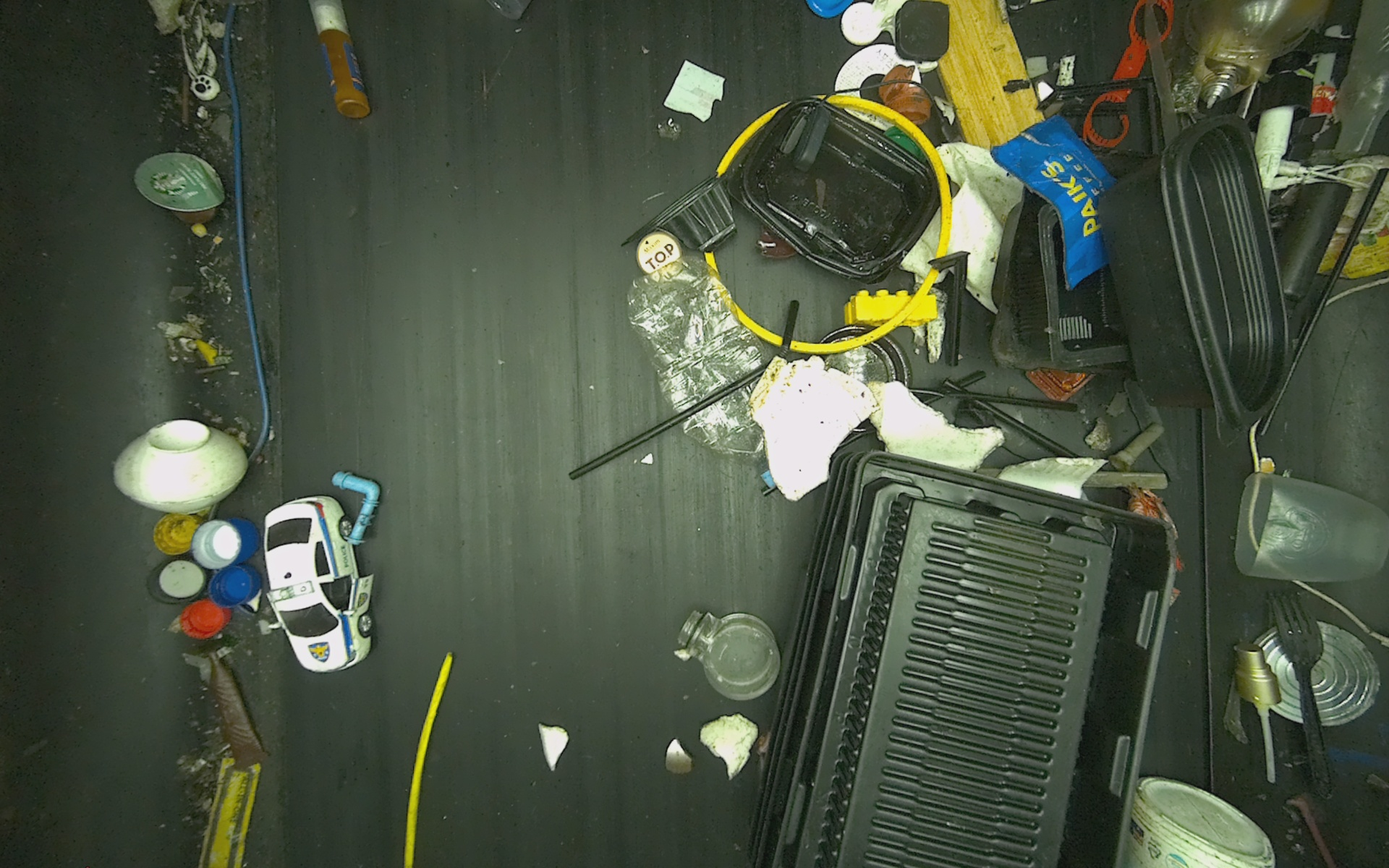PET: (627, 254, 776, 487)
PET-C: (677, 610, 781, 702)
PP-B: (745, 449, 1177, 868), (1099, 113, 1293, 447)
